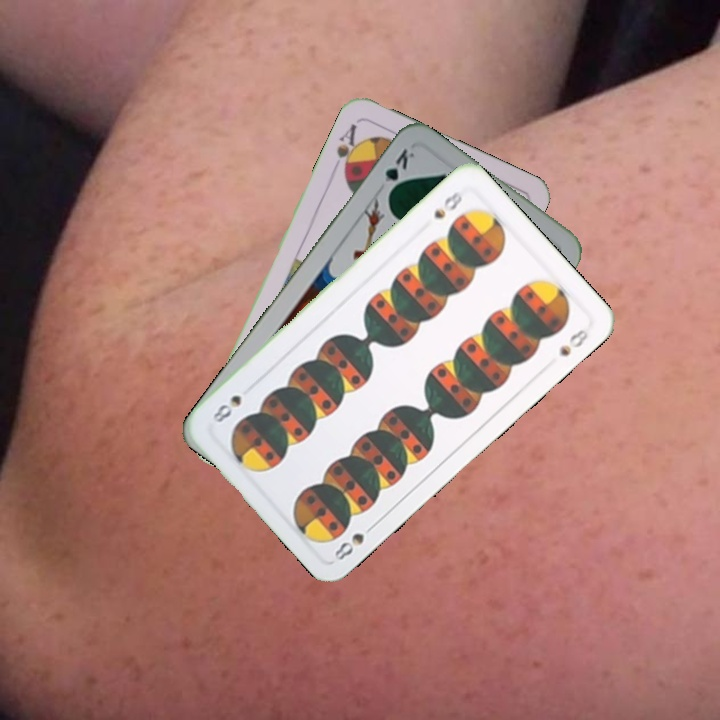GK: (380, 144, 417, 199)
S8: (330, 518, 379, 563), (429, 186, 465, 222)
SA: (332, 119, 364, 179)
